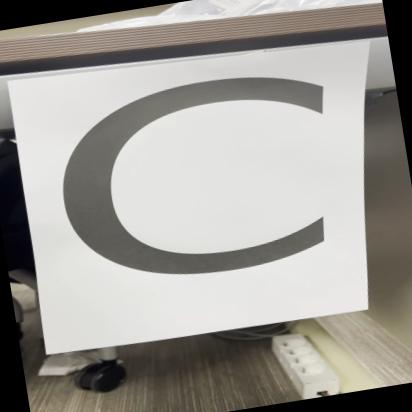seat: (31, 27, 393, 352)
